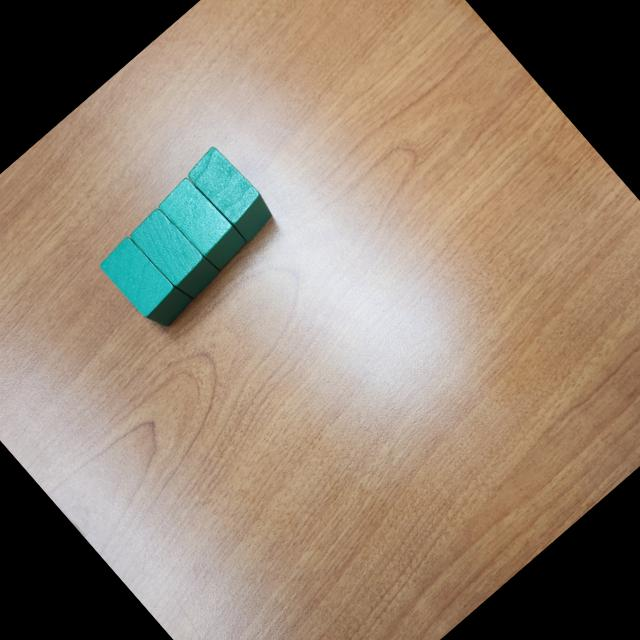green: (94, 228, 198, 336), (182, 142, 280, 245), (125, 202, 222, 306), (154, 173, 250, 274)
